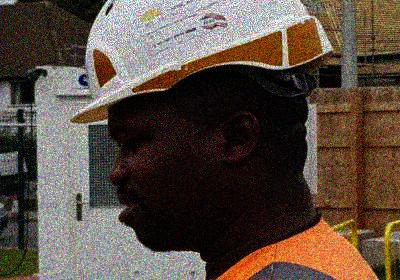helmet: (72, 1, 335, 250)
